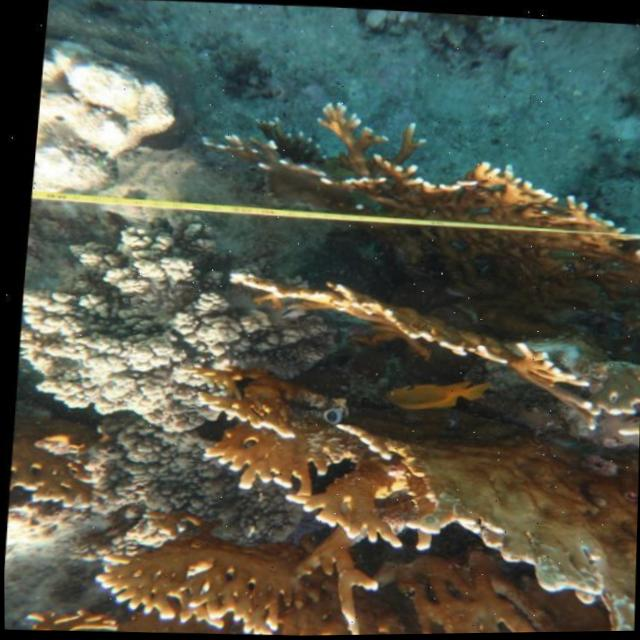Healthy Coral: (183, 94, 640, 318), (7, 512, 594, 640), (178, 356, 431, 548)
